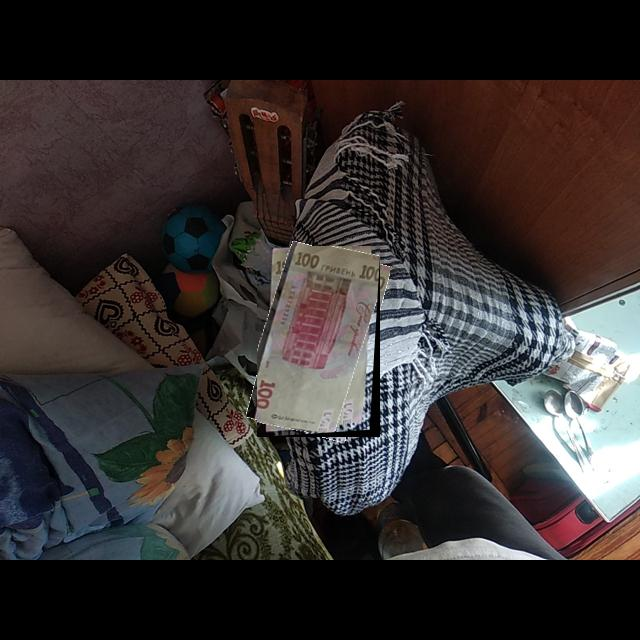100uah: (257, 246, 381, 438)
